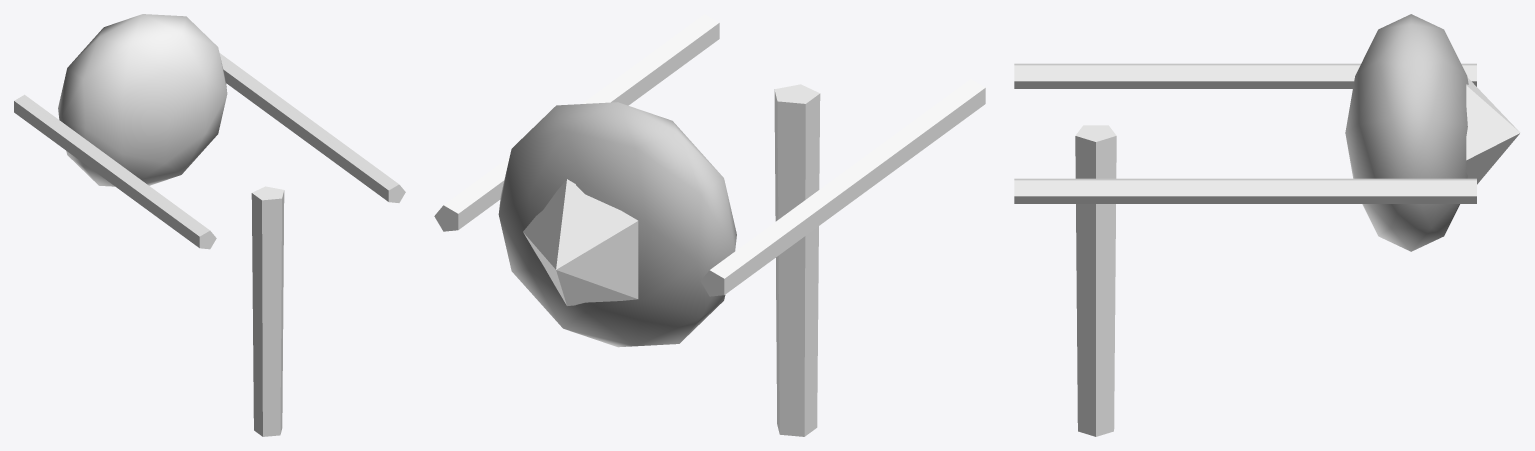
The model's file is SM_ShishiOdoshi.glb.
3 views of the same model, side by side, from view 1: azimuth 30°, elevation 25°; view 2: azimuth 150°, elevation 25°; view 3: azimuth 270°, elevation 25° (orthographic). The views are drawn at different scales.
Visible parts, largest first — view 1: asset_shishiodoshi; view 2: asset_shishiodoshi; view 3: asset_shishiodoshi.
Boxes of the visible parts, box(x1,y1,x2,y2) form: asset_shishiodoshi: box(14, 14, 405, 436); asset_shishiodoshi: box(434, 14, 985, 436); asset_shishiodoshi: box(1014, 14, 1520, 436).
Bounding box in the file's own units: 0.5452 × 0.82 × 0.93.
2 materials, 2 textured.
